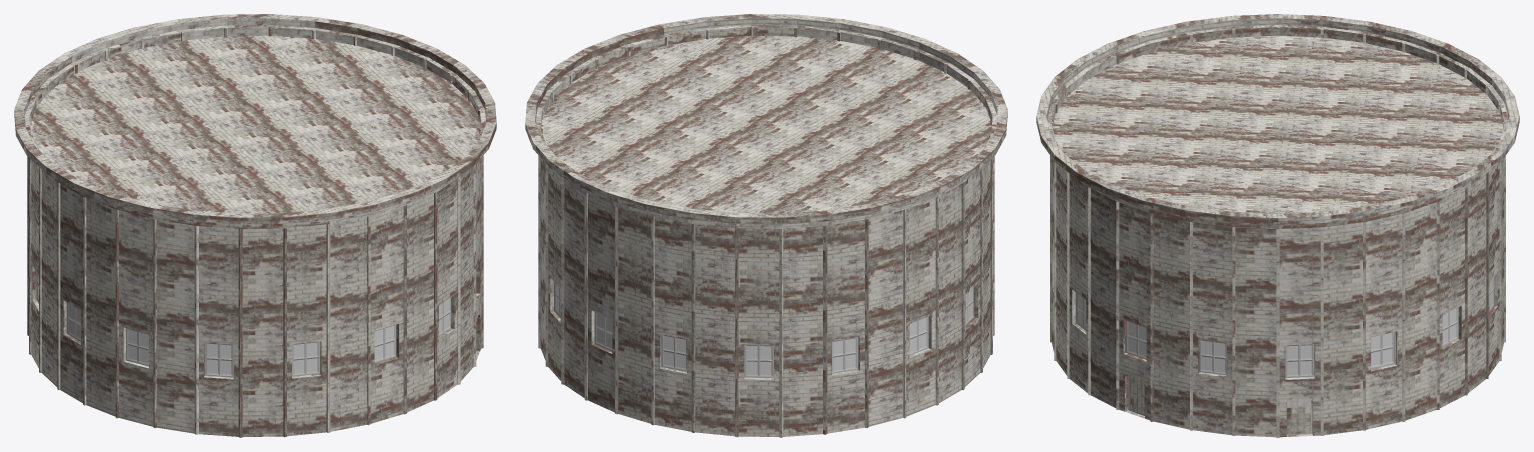
File: house 1.fbx
3 renders of one model, left to right at view 1: azimuth 30°, elevation 25°; view 2: azimuth 150°, elevation 25°; view 3: azimuth 270°, elevation 25°, orthographic.
Visible parts, largest first — view 1: Building3; view 2: Building3; view 3: Building3.
Part boxes in pixels (x1=…): Building3: x1=14, y1=14, x2=496, y2=437; Building3: x1=525, y1=14, x2=1007, y2=437; Building3: x1=1036, y1=14, x2=1519, y2=437.
Bounding box in the file's own units: 3201 × 1649 × 3201.
